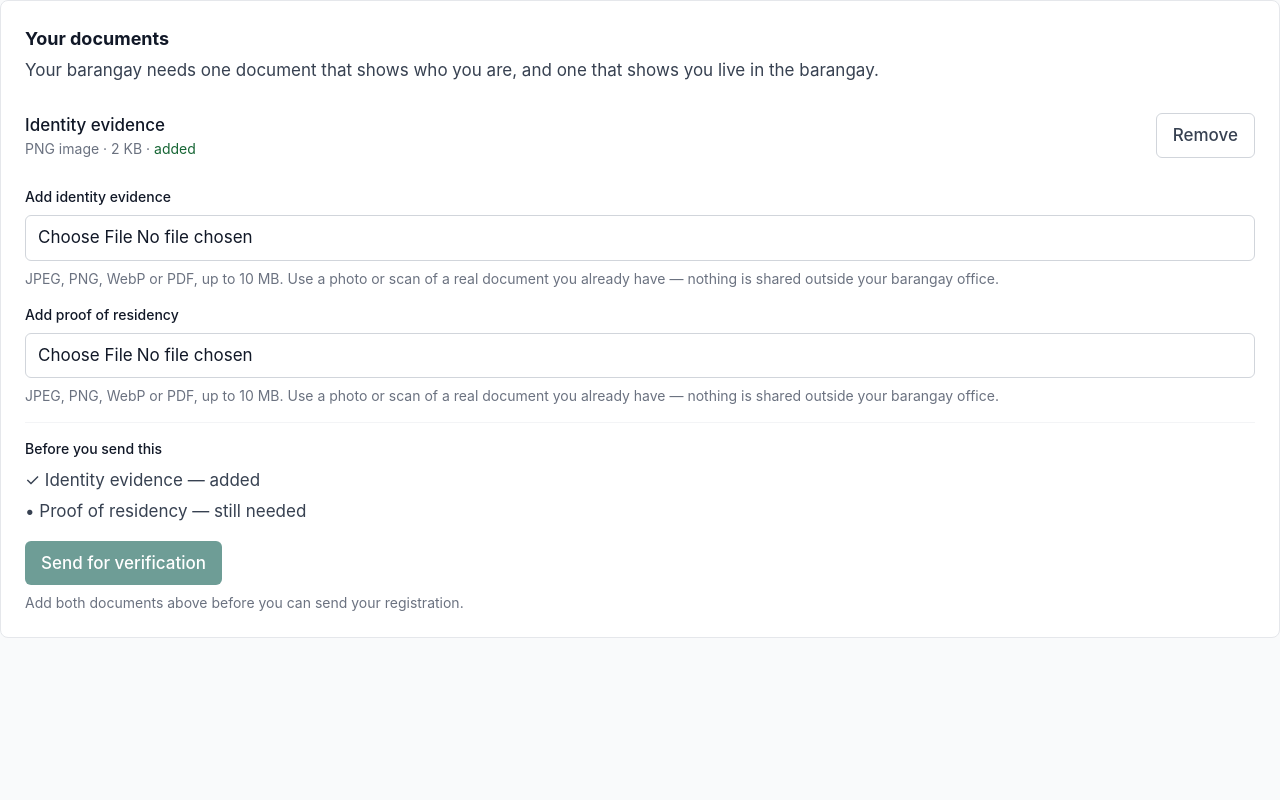
Test: EvidenceManager — evidence list › surfaces a removal failure instead of pretending it worked
Step 1. Click the button "Remove" → (1205, 136), box [1156,113,1255,158]
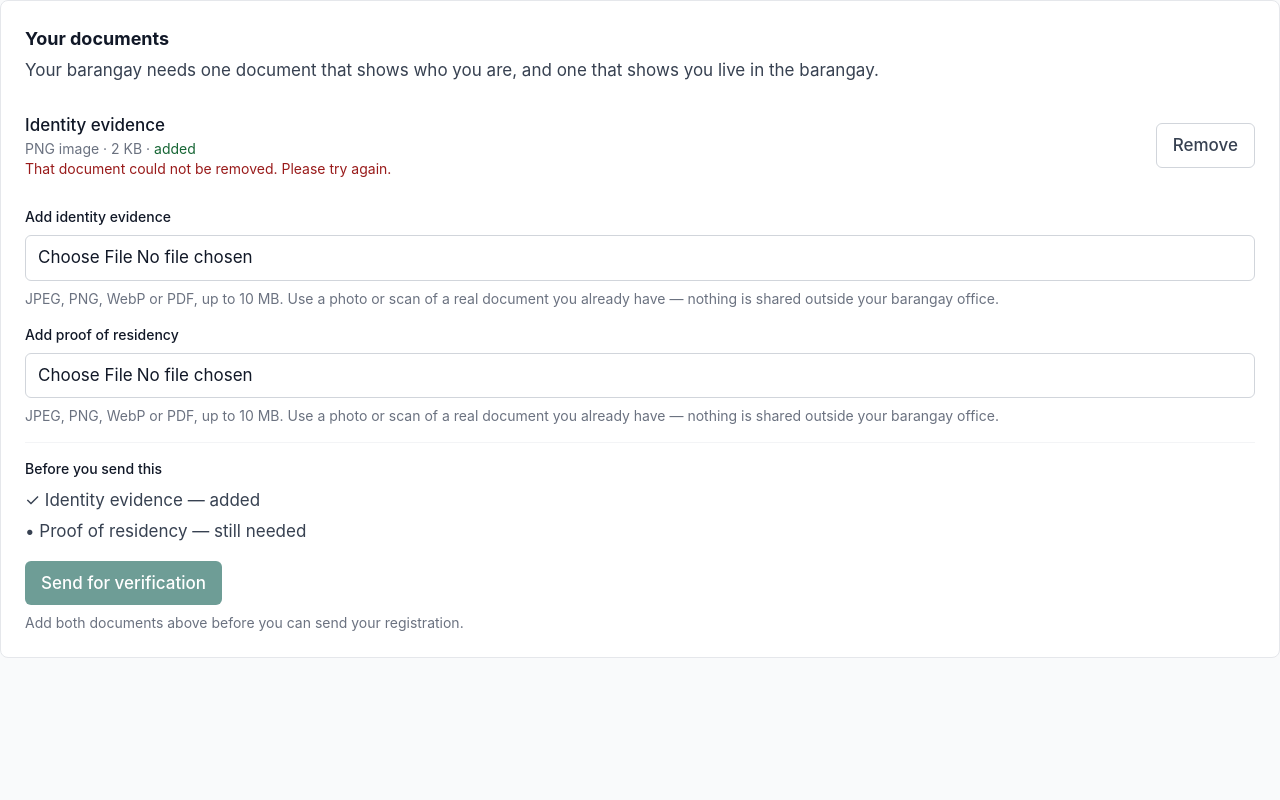
Expected: the message shows "could not be removed", [25,160,391,177]
